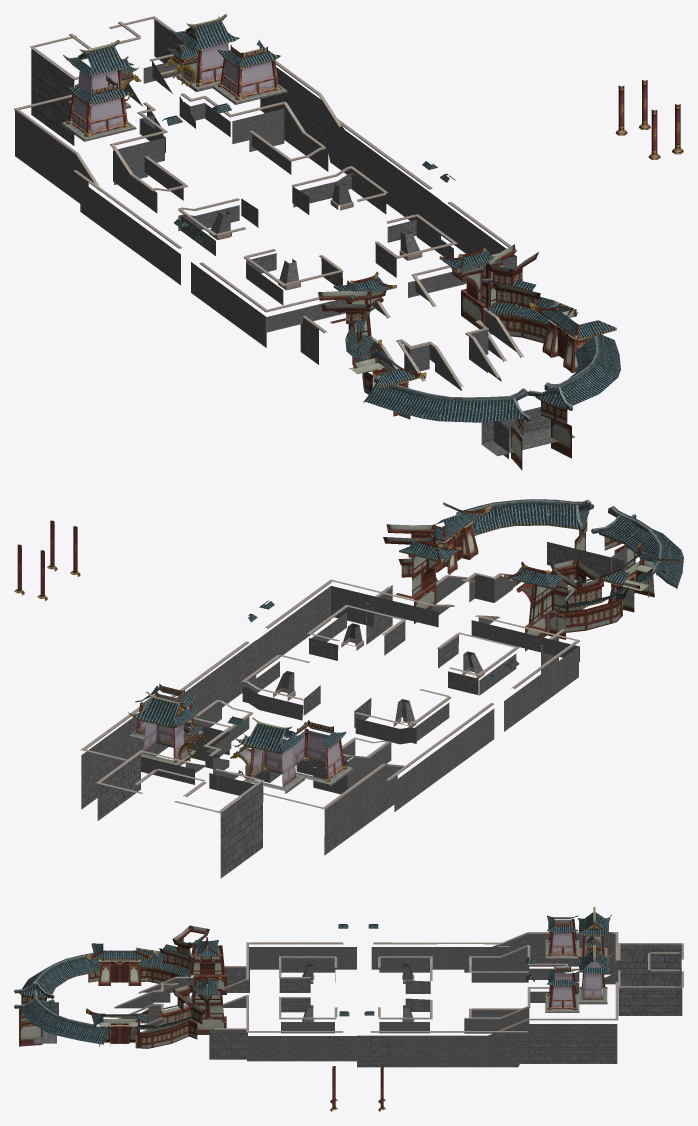
The model's file is dimian3.FBX.
3 views of the same model, one above another, from view 1: azimuth 30°, elevation 25°; view 2: azimuth 150°, elevation 25°; view 3: azimuth 270°, elevation 25° (orthographic). The views are drawn at different scales.
Visible parts, largest first — view 1: zhucheng_01; view 2: zhucheng_01; view 3: zhucheng_01.
Part boxes in pixels (<box>): zhucheng_01: <box>14,14,683,470</box>; zhucheng_01: <box>14,499,683,878</box>; zhucheng_01: <box>14,907,683,1111</box>.
Size of the model in its own units: 110 by 31.73 by 184.
